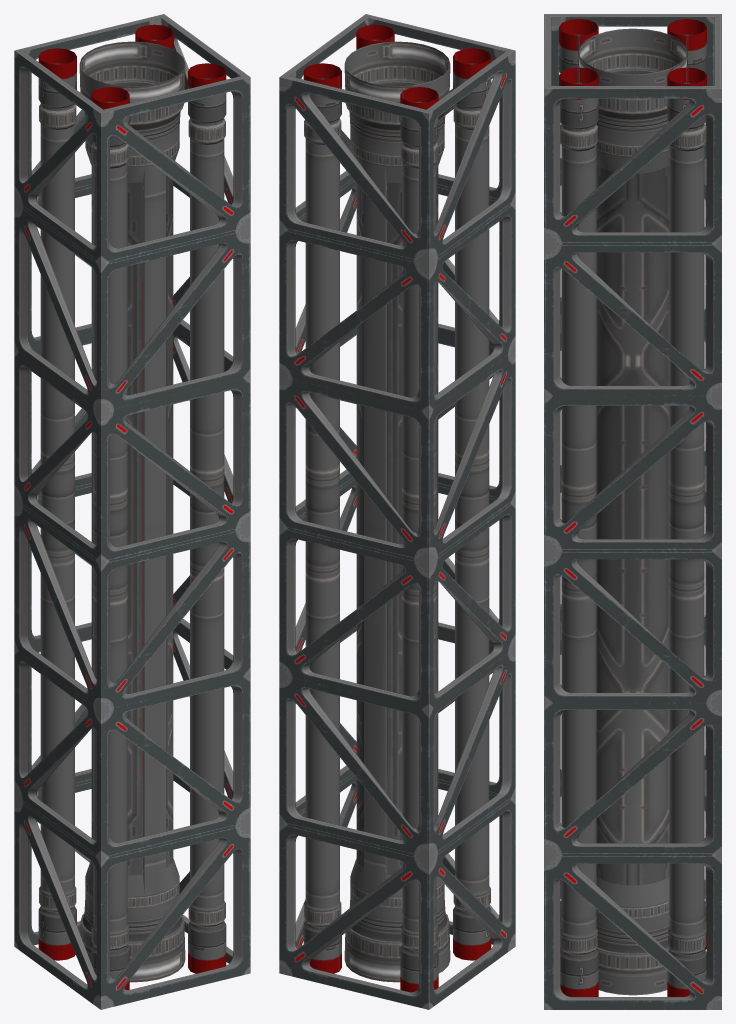
Rendered from prop_column_pipes.glb.
3 renders of one model, left to right at view 1: azimuth 30°, elevation 25°; view 2: azimuth 150°, elevation 25°; view 3: azimuth 270°, elevation 25°, orthographic. The views are drawn at different scales.
Visible parts, largest first — view 1: Column_Pipes; view 2: Column_Pipes; view 3: Column_Pipes.
Part boxes in pixels (x1,y1,x2,y2): Column_Pipes: [14, 14, 250, 1009]; Column_Pipes: [279, 14, 515, 1009]; Column_Pipes: [544, 14, 721, 1009].
Bounding box in the file's own units: 0.8746 × 5 × 0.8746.
3 materials, 3 textured.
